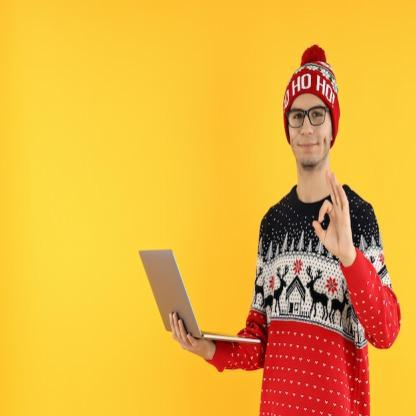ok: (311, 167, 354, 264)
